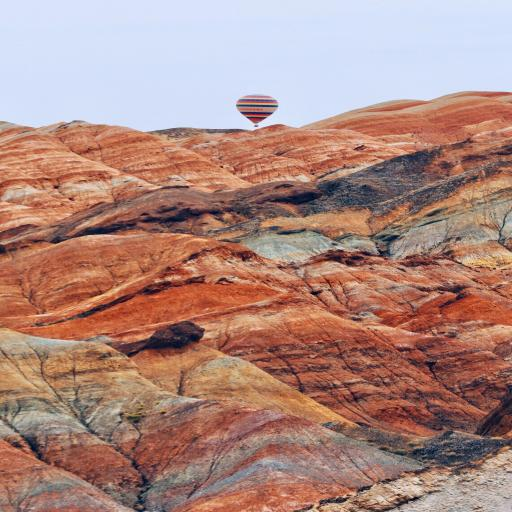hot air ballon: (236, 94, 278, 127)
